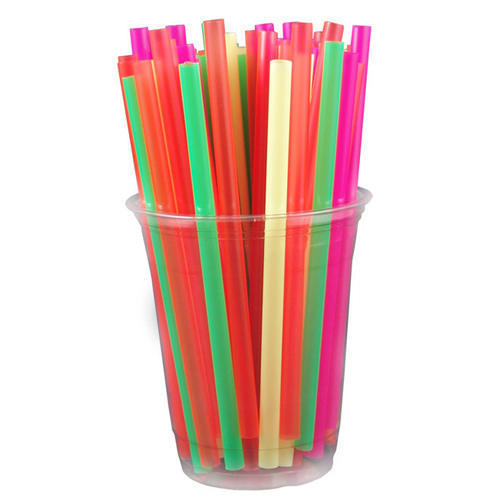Drinking Straw: (260, 55, 295, 474)
